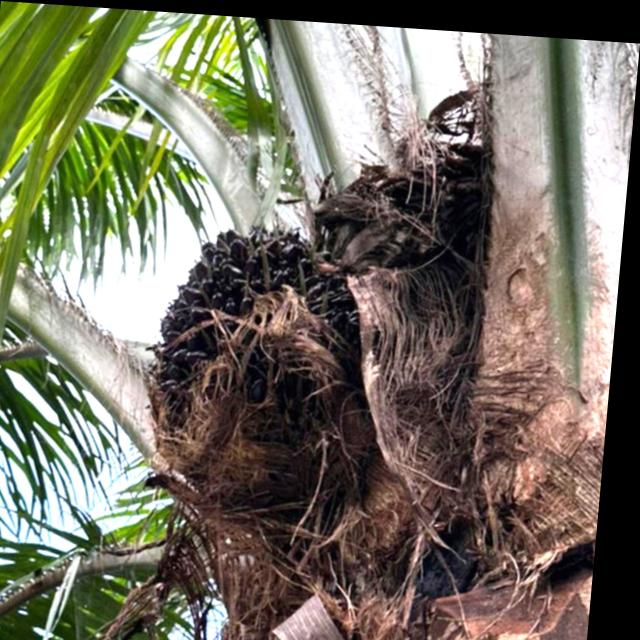almost: (130, 194, 392, 498)
